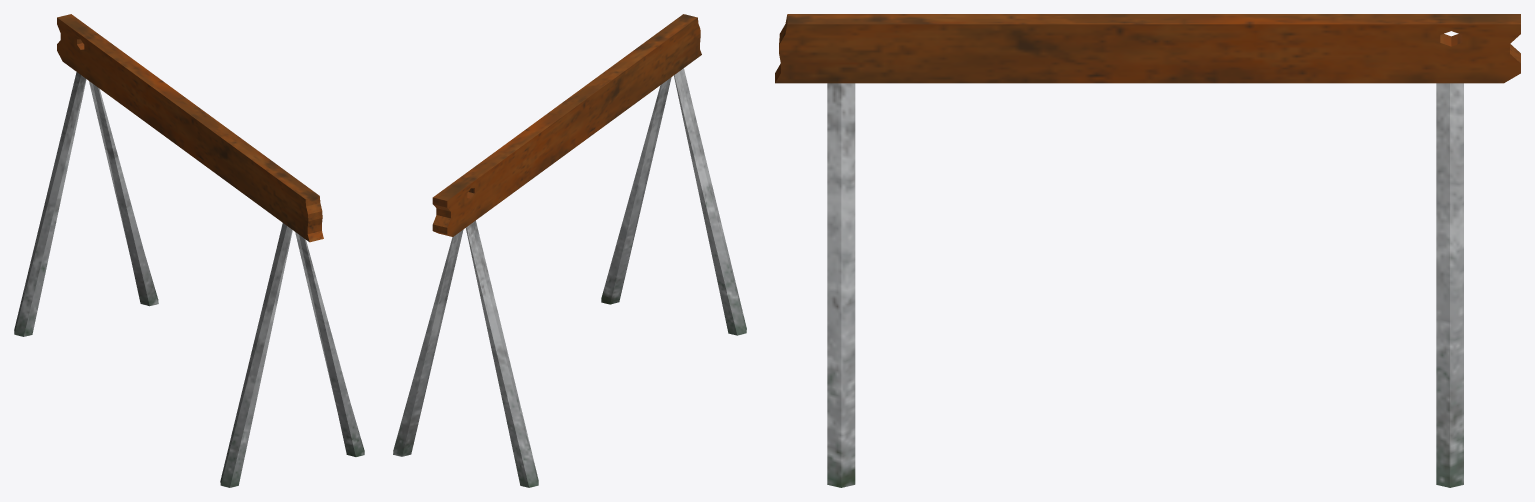
File: Barrer_SM.fbx
The picture shows the model from 3 angles, left to right: view 1: azimuth 30°, elevation 25°; view 2: azimuth 150°, elevation 25°; view 3: azimuth 270°, elevation 25°; orthographic projection. The views are drawn at different scales.
Parts seen in each view (by area): view 1: Box006; view 2: Box006; view 3: Box006.
Part boxes in pixels (left/top/right/bottom): Box006: left=14, top=14, right=364, bottom=487; Box006: left=393, top=14, right=746, bottom=487; Box006: left=775, top=14, right=1520, bottom=487.
Bounding box in the file's own units: 51.88 × 97.67 × 158.
